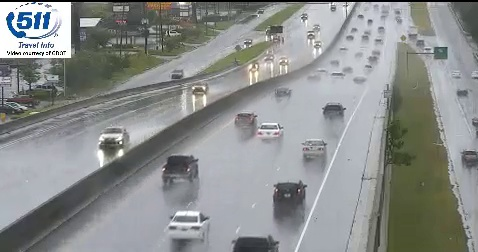car: (168, 211, 208, 240), (162, 154, 198, 179), (274, 180, 305, 205), (257, 122, 283, 140), (302, 139, 326, 157), (323, 103, 344, 120), (235, 113, 257, 128)
